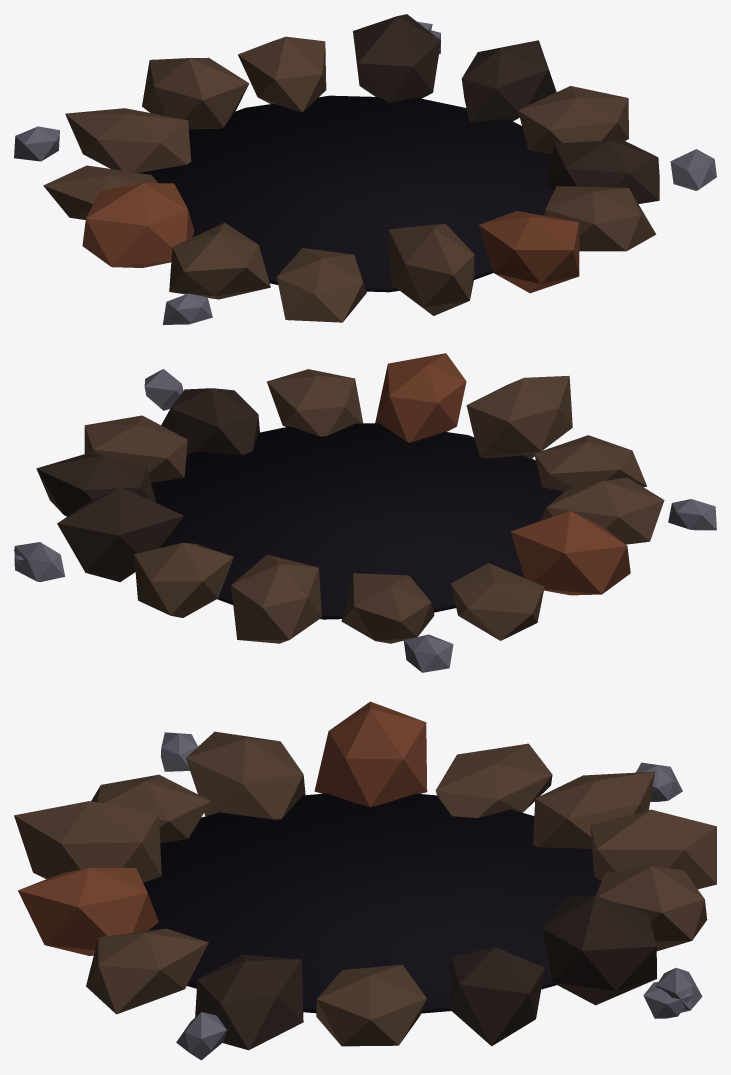
The model's file is crater.glb.
3 views of the same model, one above another, from view 1: azimuth 30°, elevation 25°; view 2: azimuth 150°, elevation 25°; view 3: azimuth 270°, elevation 25° (orthographic). The views are drawn at different scales.
Parts seen in each view (by area): view 1: crater; view 2: crater; view 3: crater.
Part boxes in pixels (bbox=[...]): crater: bbox=[14, 14, 716, 324]; crater: bbox=[14, 353, 716, 672]; crater: bbox=[14, 701, 716, 1060].
Size of the model in its own units: 1.19 by 0.1934 by 1.12.
